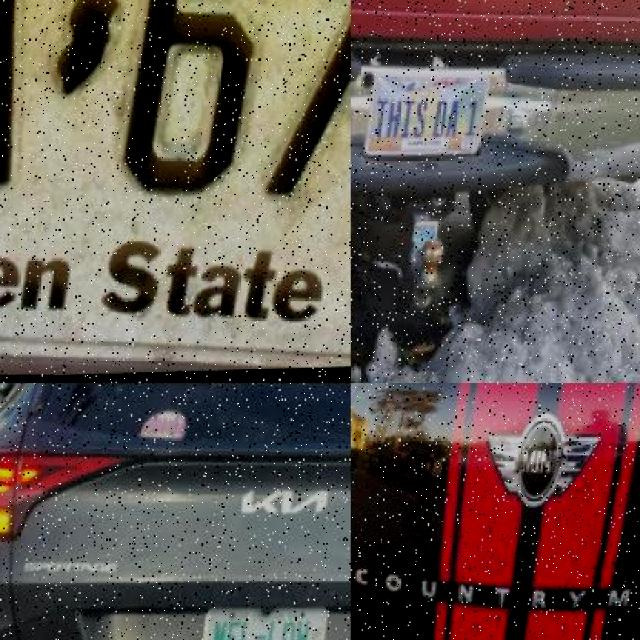licenseplate: (0, 0, 351, 242), (369, 75, 496, 160), (210, 610, 337, 640)
